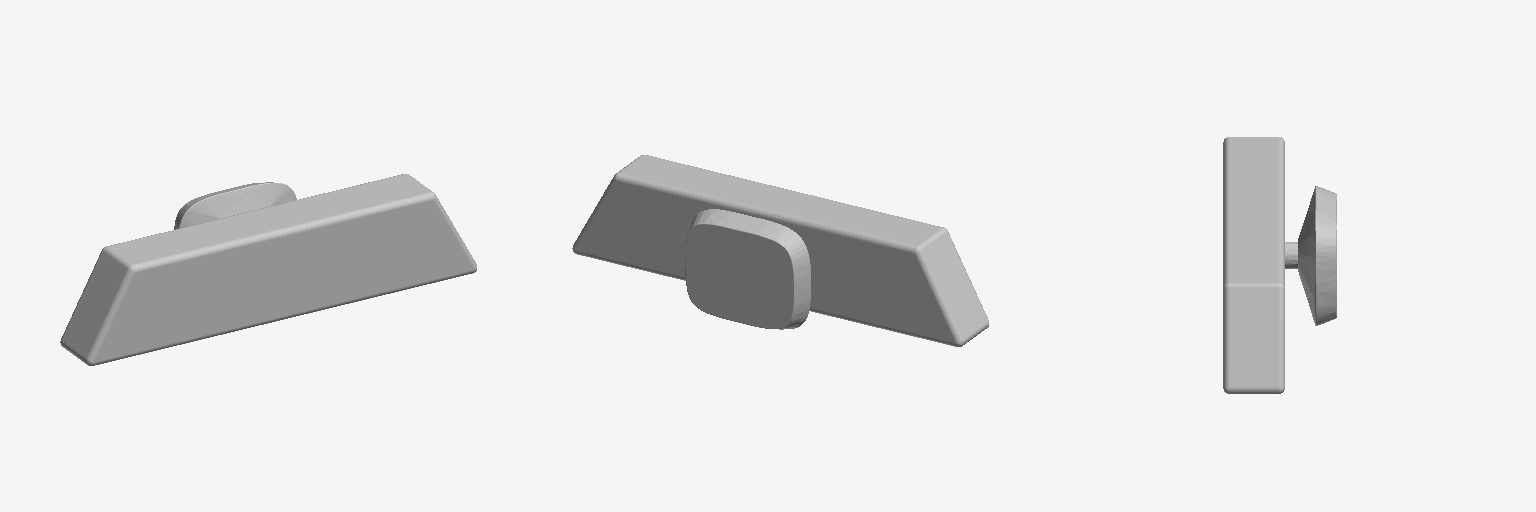
Rendered from rgbd_sensor.obj.
3 renders of one model, left to right at view 1: azimuth 30°, elevation 25°; view 2: azimuth 150°, elevation 25°; view 3: azimuth 270°, elevation 25°, orthographic.
Parts seen in each view (by area): view 1: <STL_BINARY>; view 2: <STL_BINARY>; view 3: <STL_BINARY>.
Boxes of the visible parts, box(x1,y1,x2,y2) form: <STL_BINARY>: box(60, 174, 476, 365); <STL_BINARY>: box(572, 155, 988, 346); <STL_BINARY>: box(1223, 137, 1336, 393).
Bounding box in the file's own units: 0.2786 × 0.0725 × 0.07.